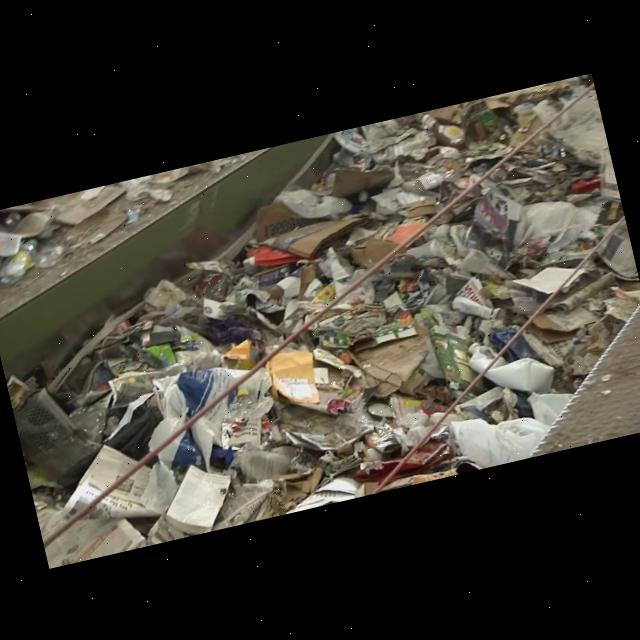trash: (212, 384, 268, 454)
